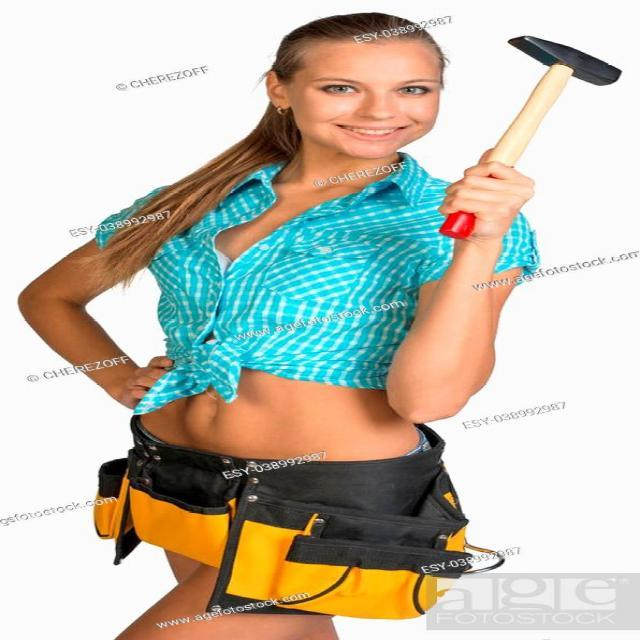hammer: (429, 15, 632, 246)
